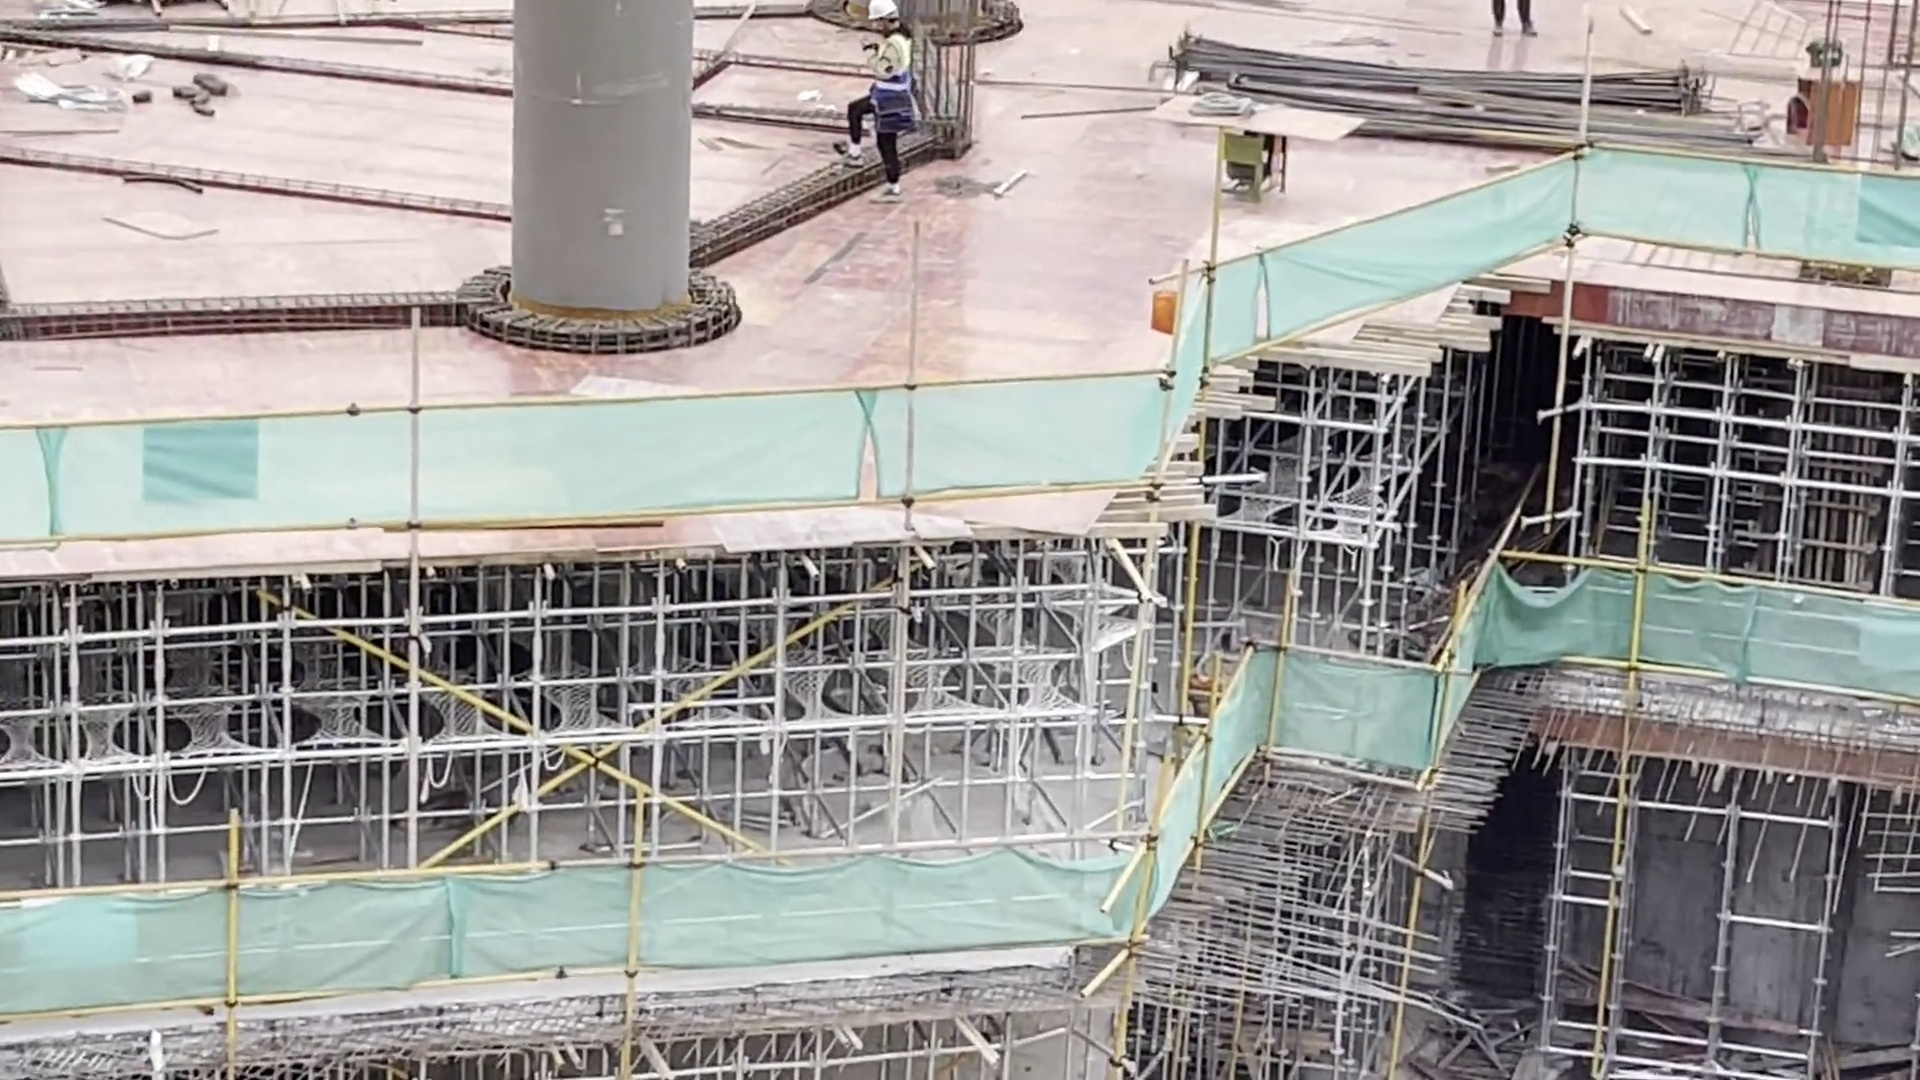helmet: (867, 3, 909, 21)
person: (856, 4, 926, 205)
rebar: (1194, 30, 1753, 149)
vest: (877, 40, 922, 99)
